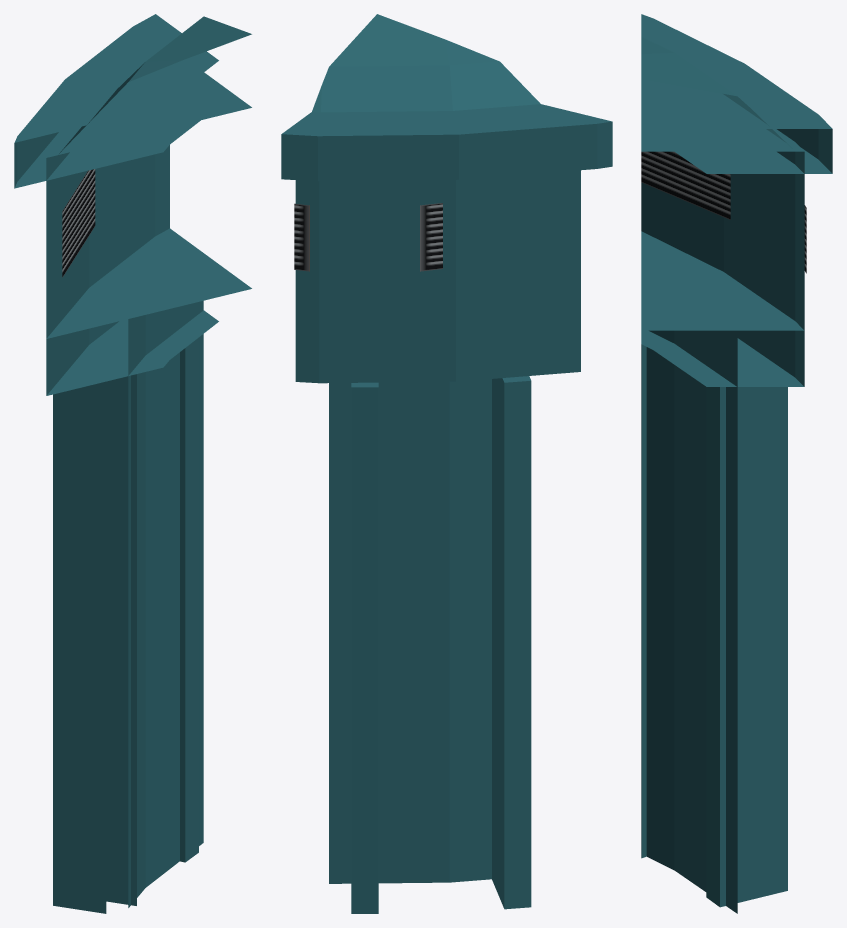
The model's file is cell_45.obj.
The picture shows the model from 3 angles, left to right: view 1: azimuth 30°, elevation 25°; view 2: azimuth 150°, elevation 25°; view 3: azimuth 270°, elevation 25°; orthographic projection.
Size of the model in its own units: 0.2182 by 0.7394 by 0.1537.
